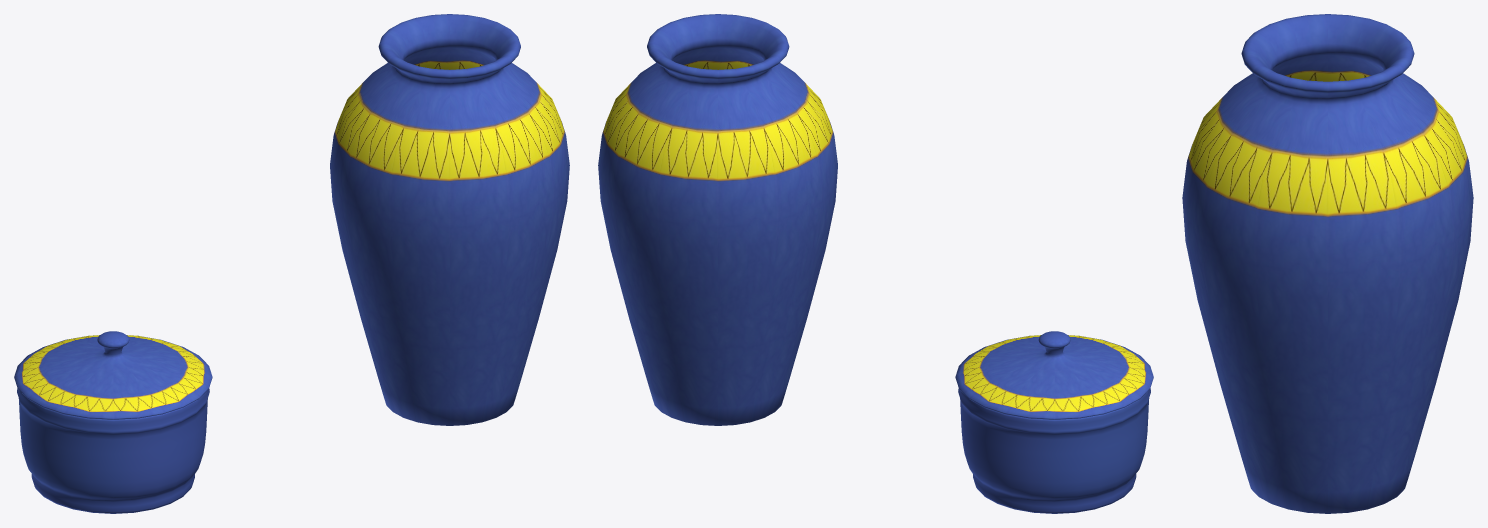
File: pottery.glb
3 renders of one model, left to right at view 1: azimuth 30°, elevation 25°; view 2: azimuth 150°, elevation 25°; view 3: azimuth 270°, elevation 25°, orthographic. The views are drawn at different scales.
Parts seen in each view (by area): view 1: jar_Plane, pottery1_Plane.001, pottery_tap_Plane.002; view 2: jar_Plane, pottery1_Plane.001, pottery_tap_Plane.002; view 3: jar_Plane.
Boxes of the visible parts, x1,y1,x2,y2 form: jar_Plane: (330,14,569,425); pottery1_Plane.001: (17,388,209,513); pottery_tap_Plane.002: (14,331,212,419); jar_Plane: (598,14,837,425); pottery1_Plane.001: (958,388,1150,513); pottery_tap_Plane.002: (955,331,1153,419); jar_Plane: (1182,14,1473,513).
Size of the model in its own units: 3.41 by 2.2 by 1.35.
2 materials, 2 textured.
